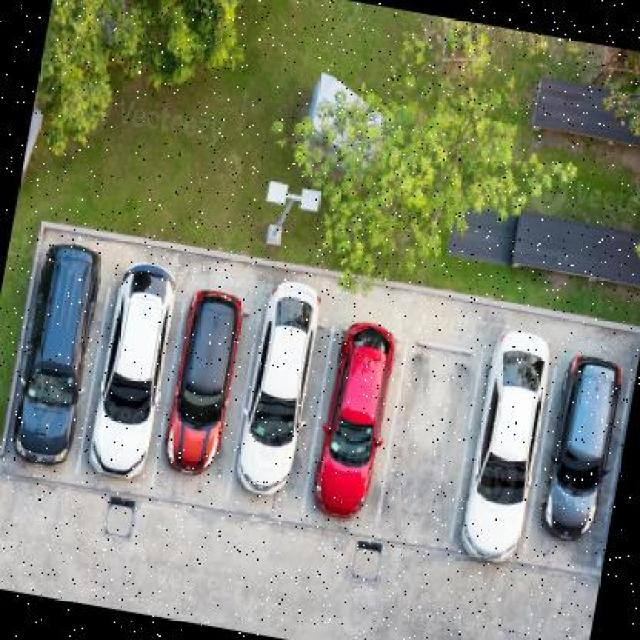Car: (454, 313, 560, 581), (4, 239, 109, 472), (86, 261, 186, 486), (310, 313, 409, 538), (235, 273, 327, 506), (529, 358, 638, 553), (160, 283, 247, 492)
Empty: (373, 326, 486, 561)
